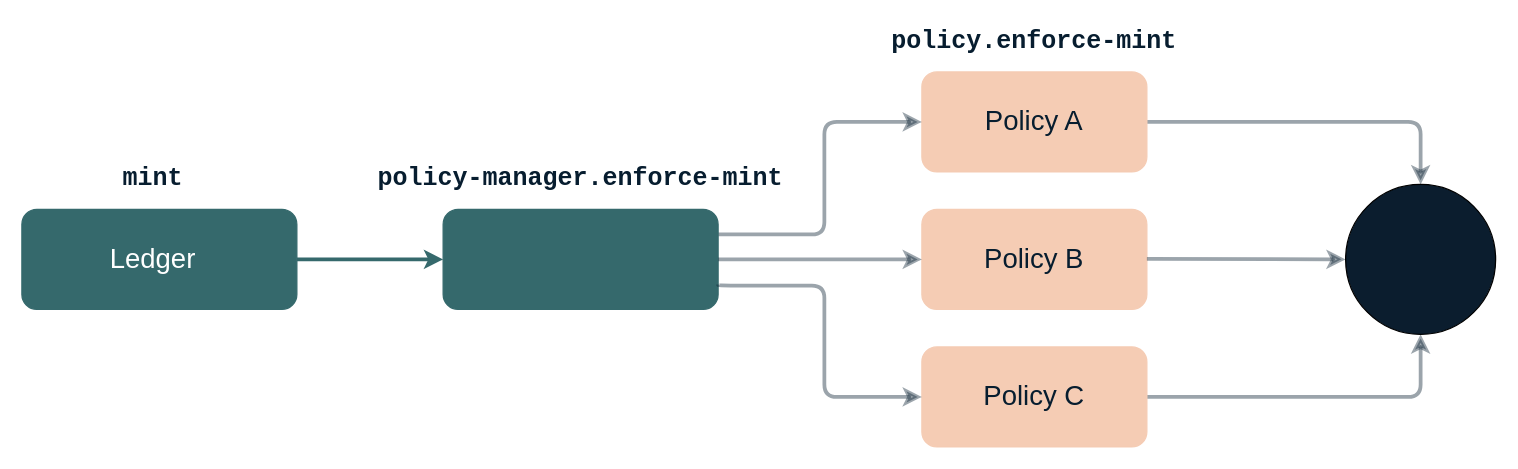
Some shapes in this 1518 by 469 pixel diagram are drawn without their labels. The shapes that lost their labels are listed below. From the top down, each one's centre as x and y in pixels, then its label:
At (580,258): "Policy manager".
At (1420,258): "Token".
